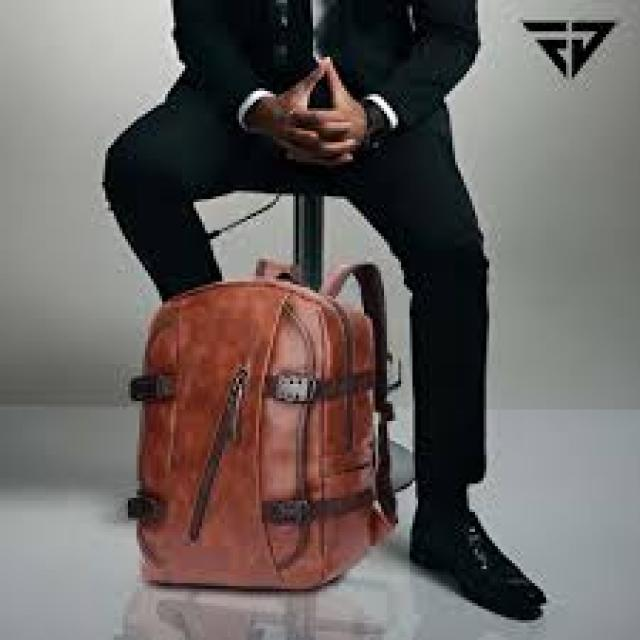backpack: (126, 257, 399, 593)
